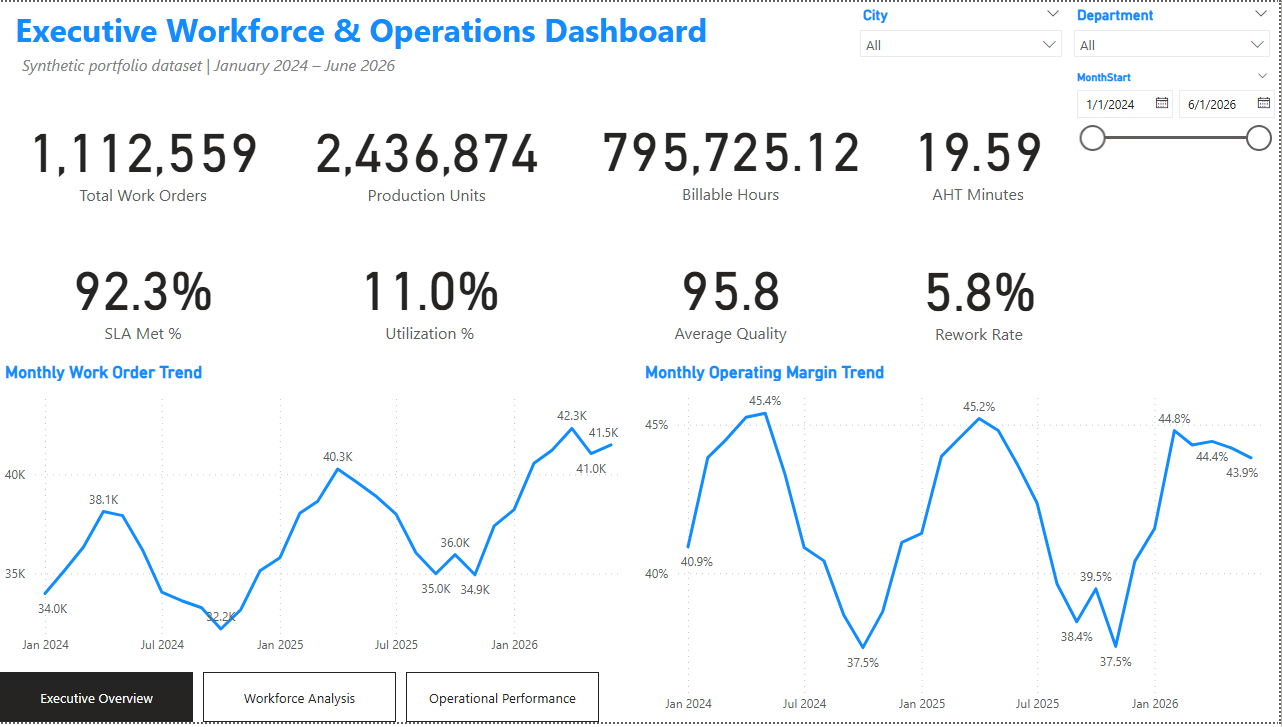

The dashboard page shown, as its layout file describes it:
{"tool":"powerbi","page":{"name":"Executive Overview","canvas":[1280,720],"ordinal":0},"visuals":[{"type":"card","fields":{"Values":["FactOperations.Total Work Orders"]},"box":[0,82,286,145],"z":0},{"type":"card","fields":{"Values":["FactOperations.Production Units"]},"box":[286,82,281,145],"z":1000},{"type":"card","fields":{"Values":["FactOperations.Billable Hours"]},"box":[567,81,327,145],"z":2000},{"type":"card","fields":{"Values":["FactOperations.AHT Minutes"]},"box":[894,81,168,145],"z":3000},{"type":"card","fields":{"Values":["FactOperations.SLA Met %"]},"box":[0,225,286,134],"z":4000},{"type":"card","fields":{"Values":["FactOperations.Utilization %"]},"box":[286,225,287,134],"z":5000},{"type":"card","fields":{"Values":["FactOperations.Average Quality"]},"box":[567,225,327,134],"z":6000},{"type":"card","fields":{"Values":["FactOperations.Rework Rate"]},"box":[894,226,170,134],"z":7000},{"type":"textbox","box":[9.7,0,839.7,64.1],"z":8000},{"type":"textbox","box":[16.5,46.7,481.1,34],"z":9000},{"type":"lineChart","title":"Monthly Work Order Trend","fields":{"Y":["FactOperations.Total Work Orders"],"Category":["DimDate.MonthStart"]},"box":[0,360,640,301],"z":10000},{"type":"lineChart","title":"Monthly Operating Margin Trend","fields":{"Category":["DimDate.MonthStart"],"Y":["FactOperations.Operating Margin %"]},"box":[640.5,359.6,639.5,360.6],"z":11000},{"type":"slicer","fields":{"Values":["DimDepartment.Department"]},"box":[1072,0,208,64.1],"z":12000},{"type":"slicer","fields":{"Values":["DimDepartment.Department"]},"box":[1064,0,216,64],"z":13000},{"type":"slicer","fields":{"Values":["DimLocation.City"]},"box":[850,0,222,64],"z":14000},{"type":"slicer","fields":{"Values":["DimDate.MonthStart"]},"box":[1064,64,216,109],"z":15000},{"type":"pageNavigator","box":[0,670,600,50],"z":16000}]}

Visuals, with their boxes in screenshot pixels (x1, y1, x2, y2), scaled from the page's 1280x720 canvas onto the 1282x727 screenshot:
card - FactOperations.Total Work Orders: rect(0, 83, 286, 229)
card - FactOperations.Production Units: rect(286, 83, 568, 229)
card - FactOperations.Billable Hours: rect(568, 82, 895, 228)
card - FactOperations.AHT Minutes: rect(895, 82, 1064, 228)
card - FactOperations.SLA Met %: rect(0, 227, 286, 362)
card - FactOperations.Utilization %: rect(286, 227, 574, 362)
card - FactOperations.Average Quality: rect(568, 227, 895, 362)
card - FactOperations.Rework Rate: rect(895, 228, 1066, 364)
textbox: rect(10, 0, 851, 65)
textbox: rect(17, 47, 498, 81)
"Monthly Work Order Trend" lineChart: rect(0, 364, 641, 667)
"Monthly Operating Margin Trend" lineChart: rect(642, 363, 1281, 726)
slicer - DimDepartment.Department: rect(1074, 0, 1281, 65)
slicer - DimDepartment.Department: rect(1066, 0, 1281, 65)
slicer - DimLocation.City: rect(851, 0, 1074, 65)
slicer - DimDate.MonthStart: rect(1066, 65, 1281, 175)
pageNavigator: rect(0, 677, 601, 726)
